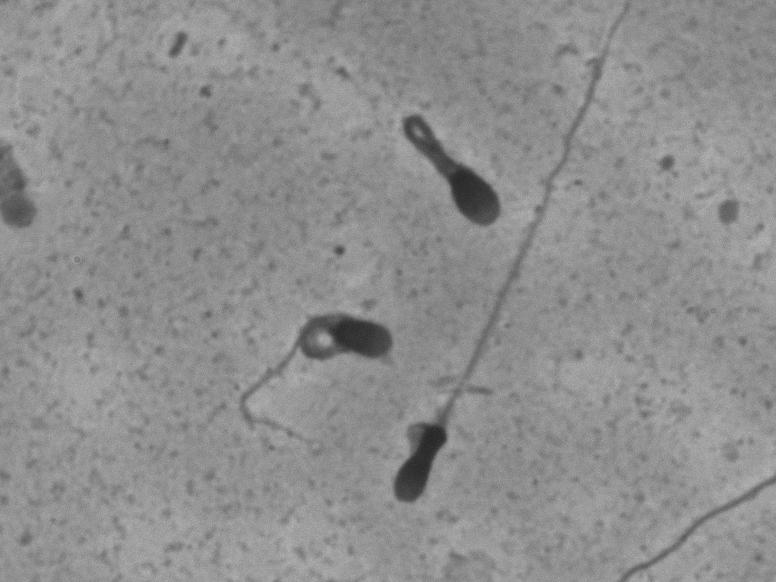Abnormal: (375, 25, 642, 514), (199, 293, 402, 442), (380, 89, 513, 236)
